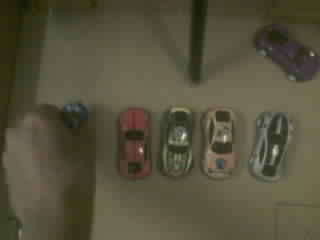Car: (250, 112, 292, 180), (257, 25, 319, 69), (200, 108, 235, 177), (160, 106, 193, 177), (119, 107, 151, 177), (63, 103, 87, 128)
